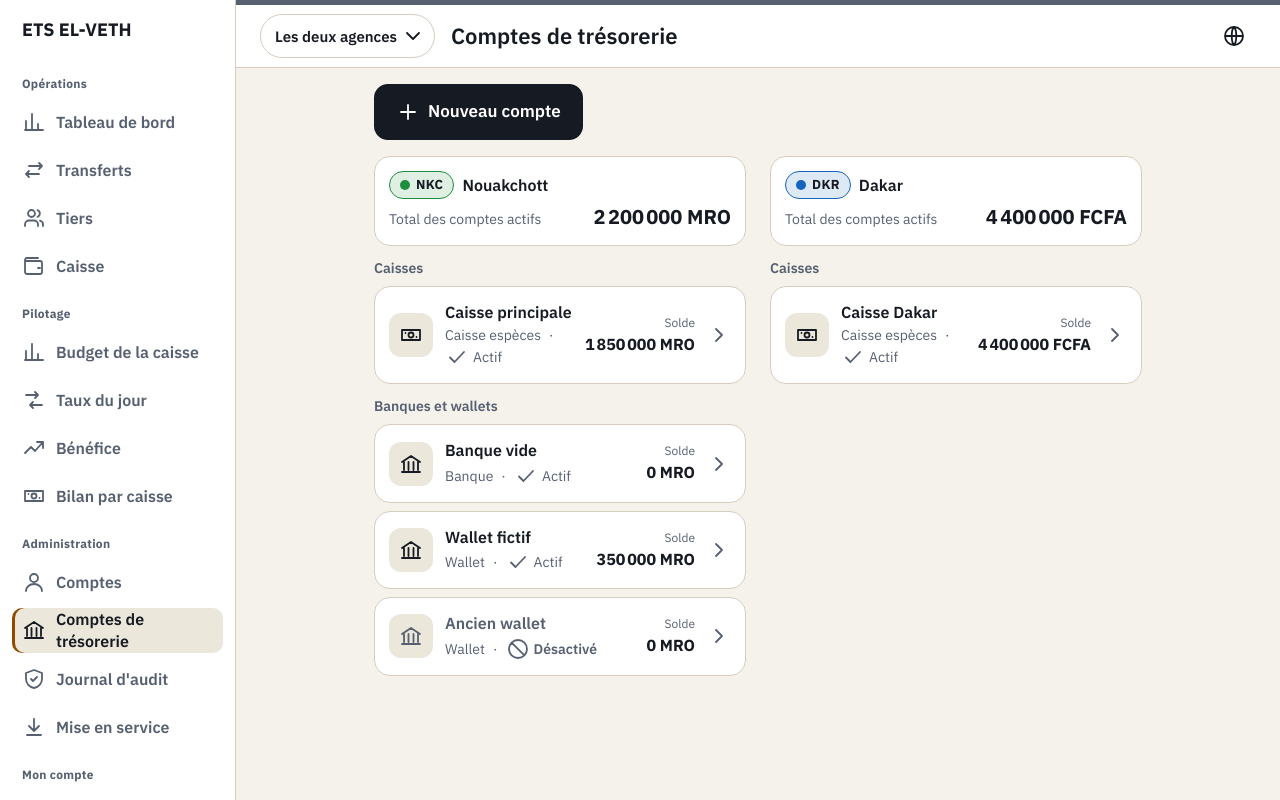
Test: Comptes de trésorerie — Superviseur › exige un nom avant tout envoi et traduit un nom déjà pris
Click the button "Nouveau compte" at (478, 112), box left=374, top=84, right=583, bottom=140
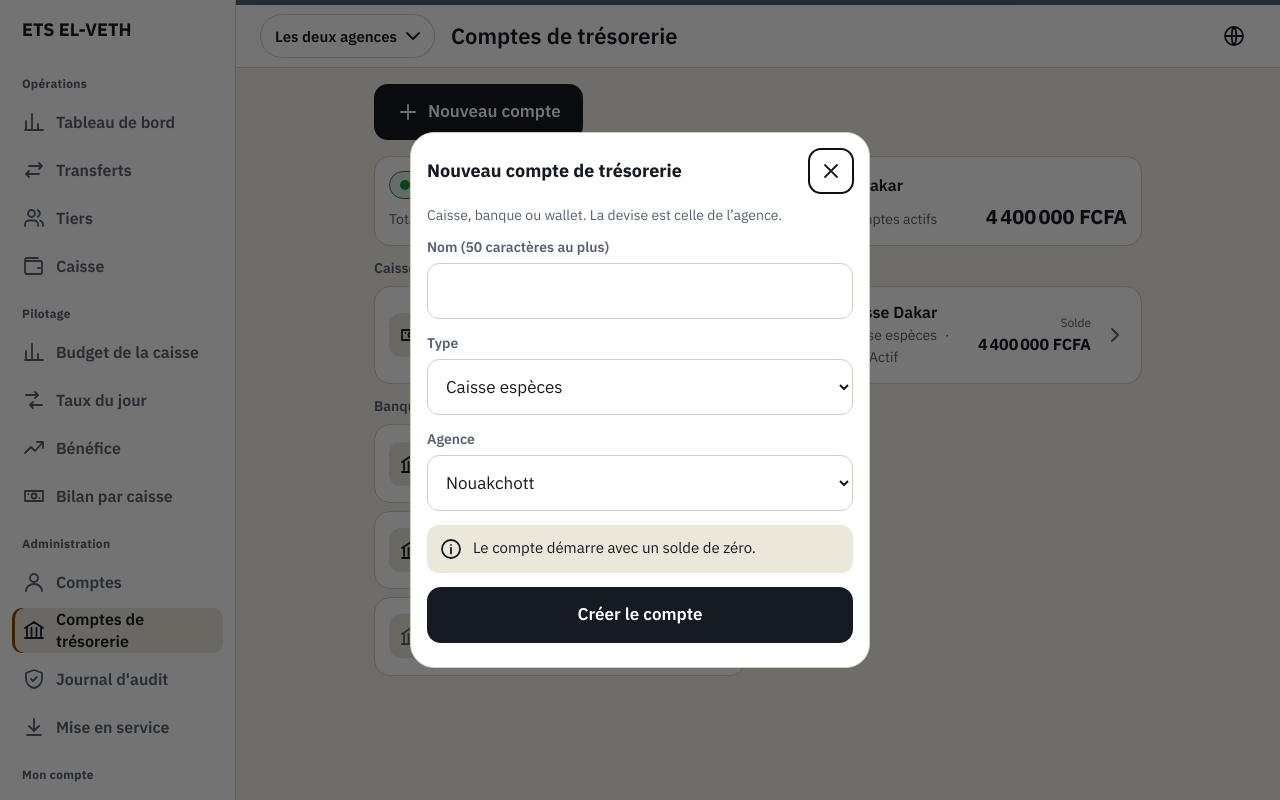
Click the button "Créer le compte" at (640, 615), box left=427, top=587, right=853, bottom=643
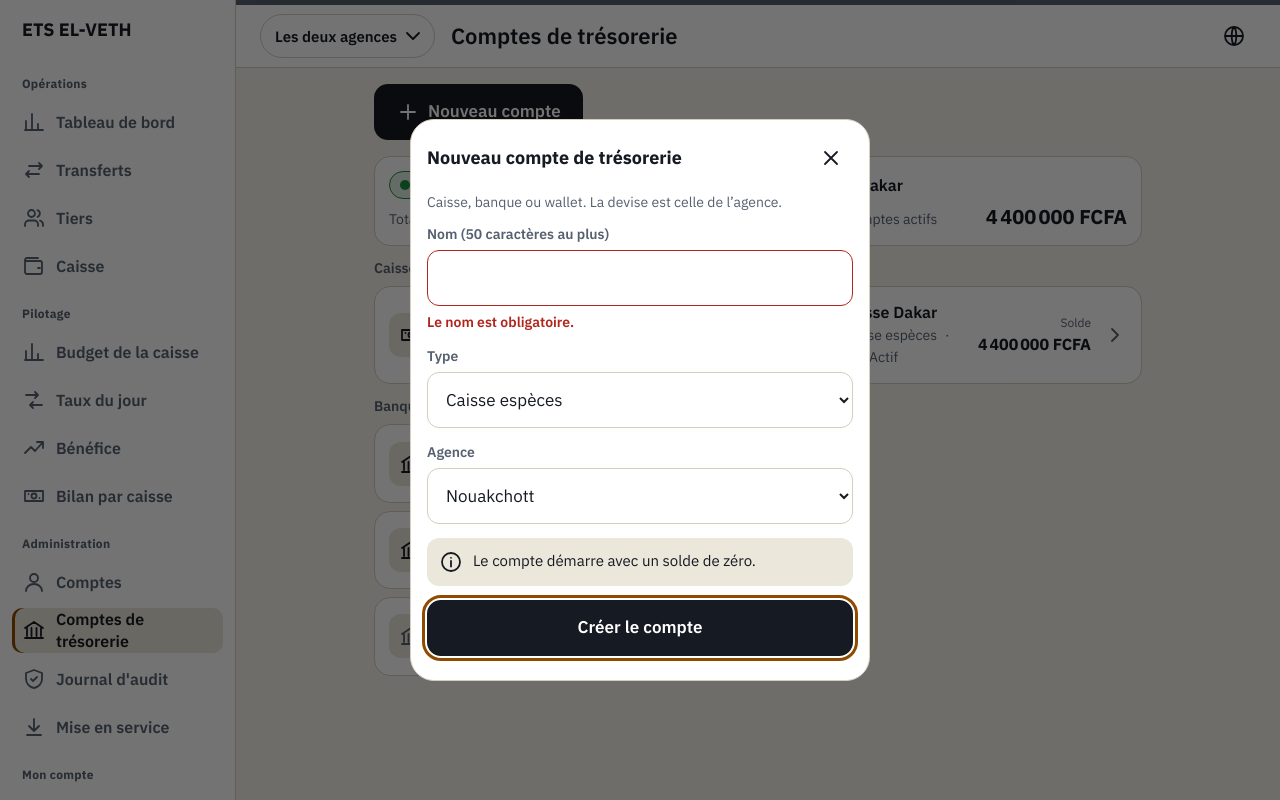
Expected: the text "Le nom est obligatoire." is shown, left=427, top=313, right=574, bottom=331
Type "caisse principale" into the field labelled "Nom (50 caractères au plus)" at (640, 278), box left=428, top=252, right=852, bottom=304
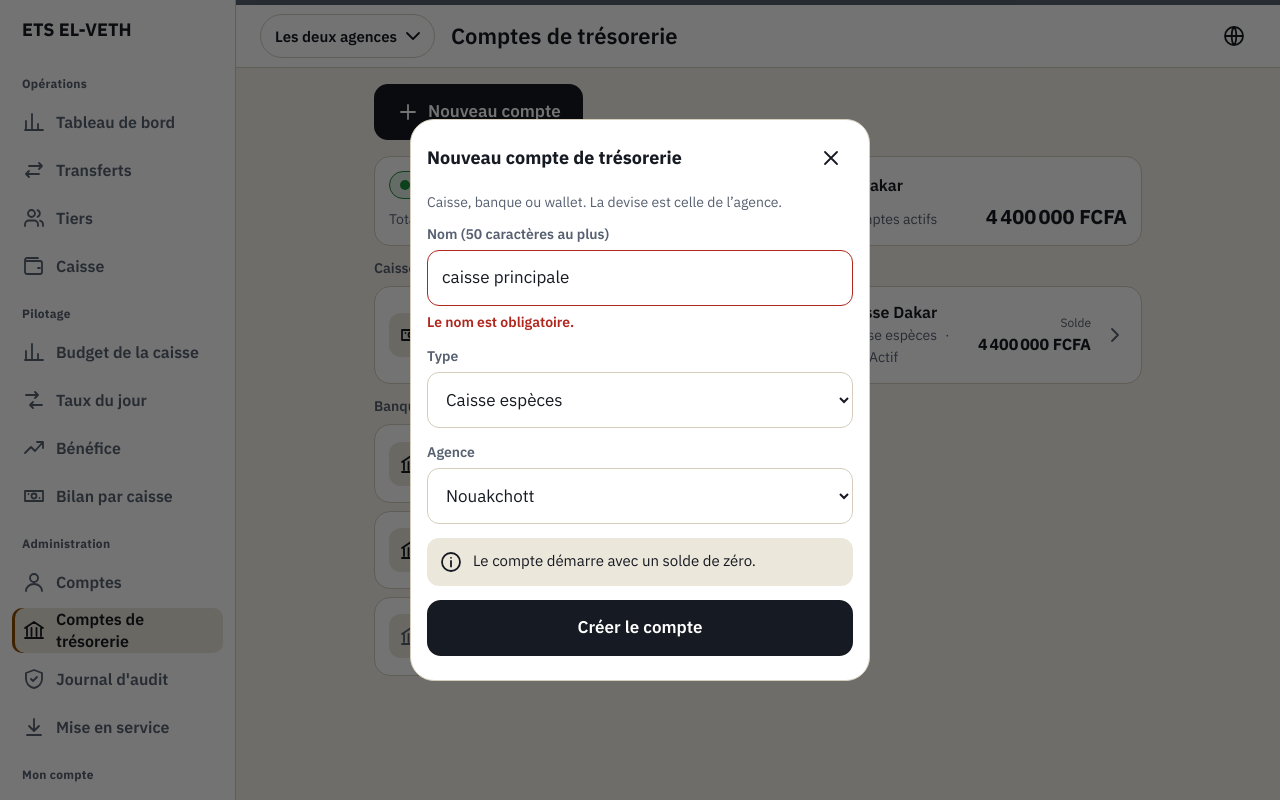
Click the button "Créer le compte" at (640, 628), box left=427, top=600, right=853, bottom=656
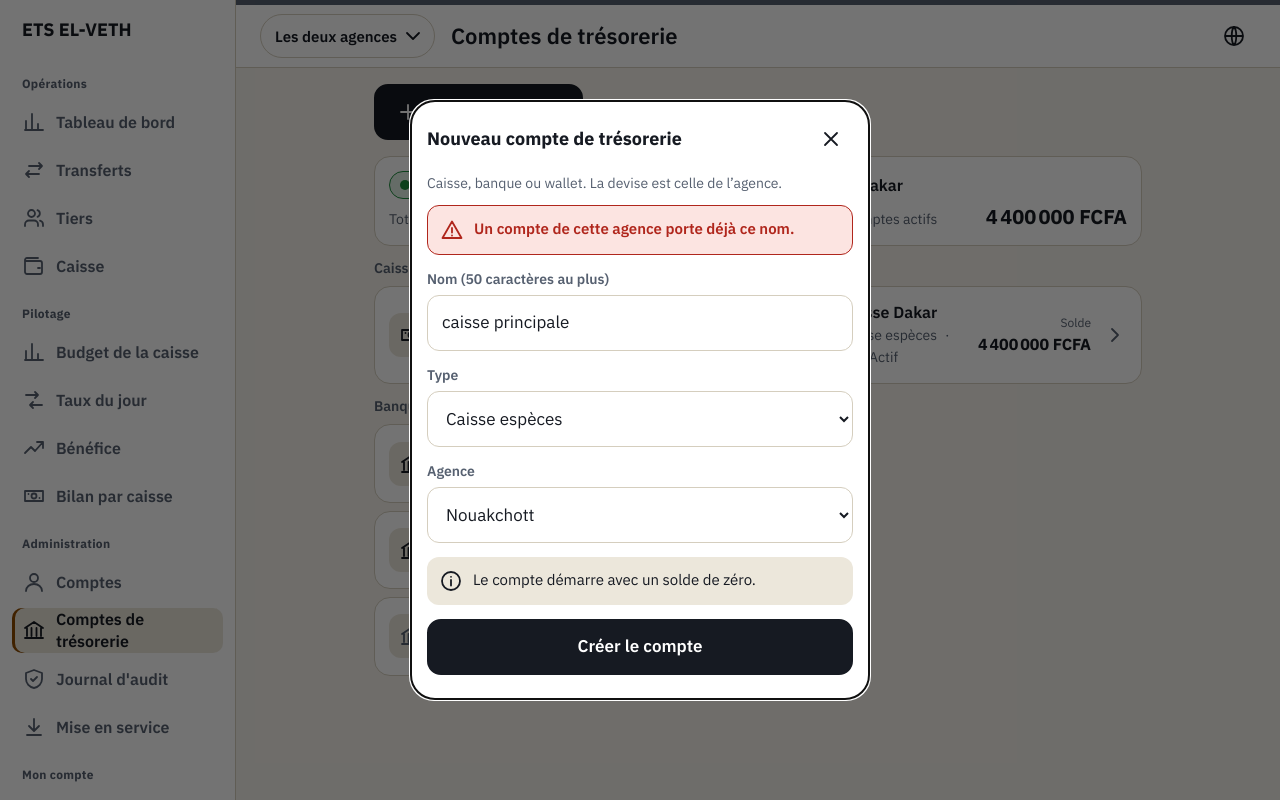
Expected: the text "Un compte de cette agence porte déjà ce nom." is shown, left=474, top=218, right=794, bottom=242
